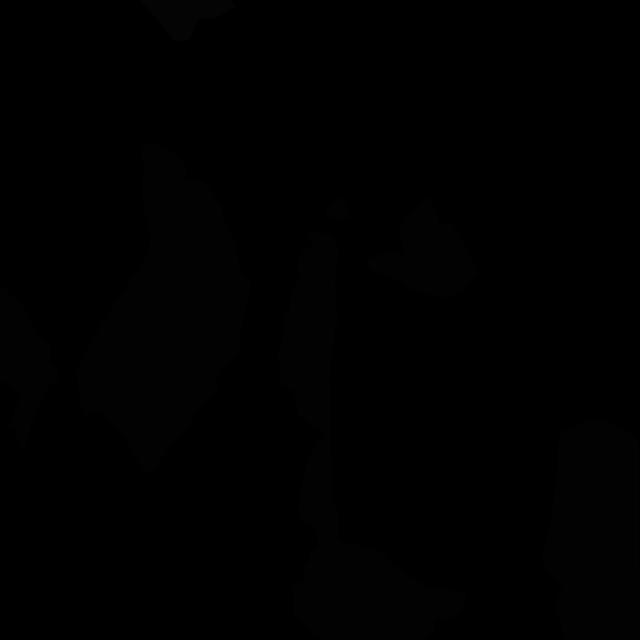cardboard: (76, 141, 250, 472), (292, 431, 466, 640), (541, 417, 640, 640), (277, 227, 340, 432), (0, 285, 59, 451), (366, 222, 479, 298), (398, 196, 440, 255), (324, 196, 350, 219)
soft_plastic: (140, 0, 236, 41)
